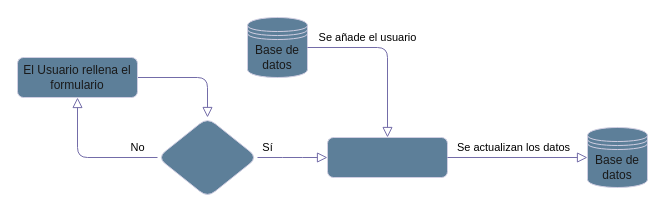
Image size: 665x215. Some labels were removed from this diagram. The box of each missing label's shape, as (x1, y1, x2, y2) in pixels:
Se crea una instancia del objeto: (326, 136, 448, 178)
¿Elementos válidos?: (156, 116, 258, 198)
